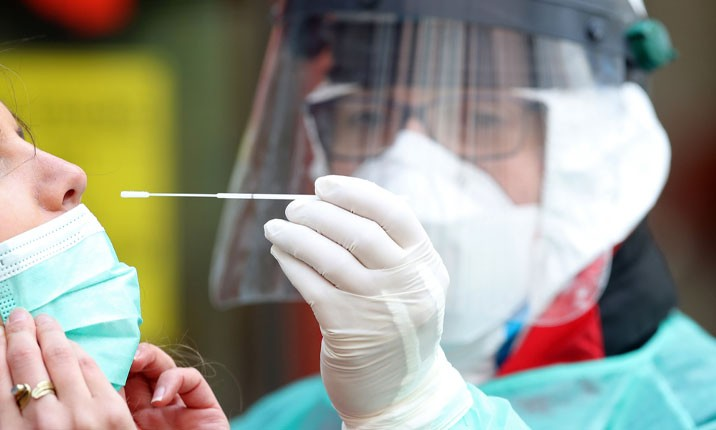Face_Shield: (263, 1, 645, 348)
Gloves: (259, 173, 462, 427)
mask_weared_incorrect: (1, 104, 152, 393)
with_mask: (341, 98, 522, 343)
